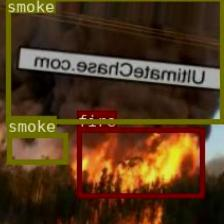fire: (76, 127, 203, 197)
smoke: (5, 0, 224, 123), (6, 132, 66, 163)
